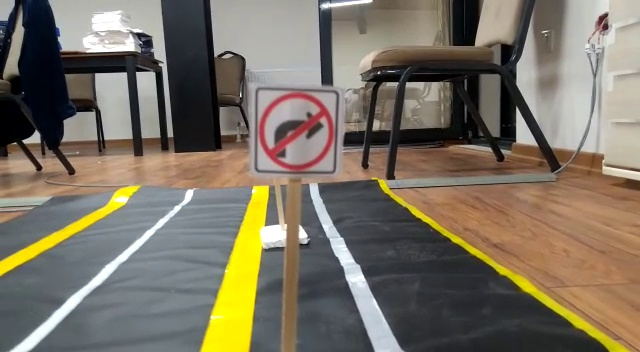saga_donulmez: (249, 82, 339, 176)
